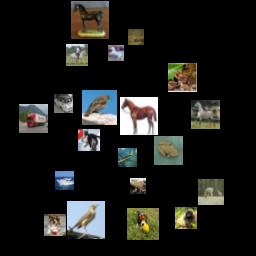airplane: (118, 148, 137, 167)
automobile: (54, 94, 73, 113)
bird: (67, 201, 105, 239), (82, 90, 117, 125)
cat: (78, 129, 100, 151)
deer: (198, 179, 224, 205), (128, 29, 144, 45)
dog: (127, 208, 159, 240), (175, 207, 197, 229), (44, 214, 66, 236)
frog: (168, 63, 197, 92), (154, 136, 183, 165), (130, 178, 146, 194)
ship: (55, 171, 74, 190)
truck: (19, 104, 48, 133)
